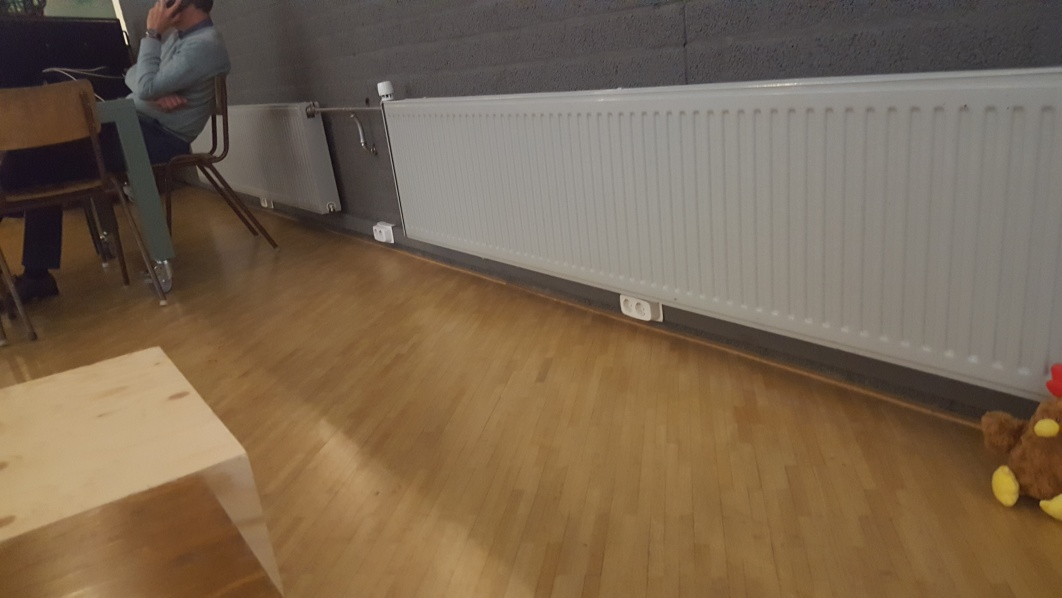chicken: (978, 365, 1062, 515)
